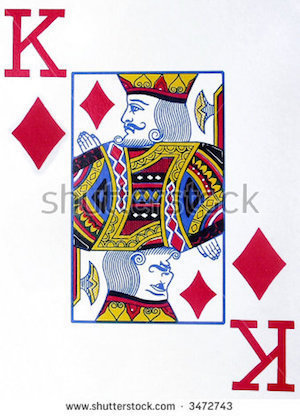KingOfDiamonds: (3, 4, 297, 401)
